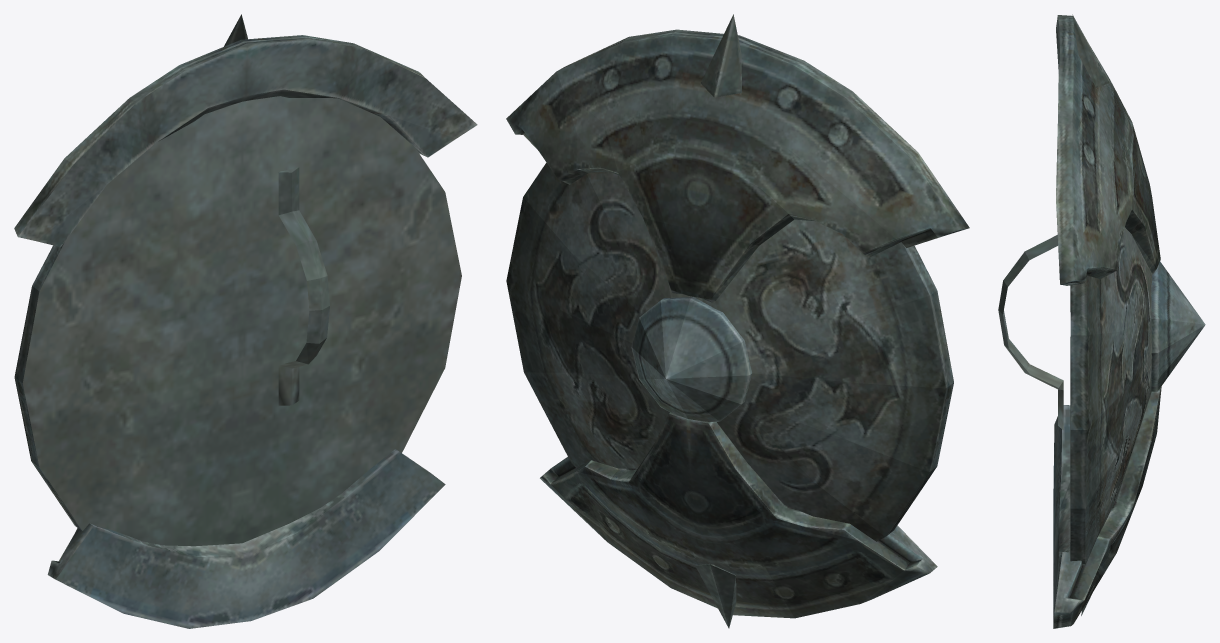
Rendered from bg_lut_lucastle_statueshield01a_sm_cwk.FBX.
3 renders of one model, left to right at view 1: azimuth 30°, elevation 25°; view 2: azimuth 150°, elevation 25°; view 3: azimuth 270°, elevation 25°, orthographic.
Visible parts, largest first — view 1: bg_lut_lucastle_statueshield01a_sm_cwk; view 2: bg_lut_lucastle_statueshield01a_sm_cwk; view 3: bg_lut_lucastle_statueshield01a_sm_cwk.
Part boxes in pixels (x1=…): bg_lut_lucastle_statueshield01a_sm_cwk: x1=14, y1=14, x2=477, y2=628; bg_lut_lucastle_statueshield01a_sm_cwk: x1=506, y1=14, x2=969, y2=628; bg_lut_lucastle_statueshield01a_sm_cwk: x1=998, y1=14, x2=1205, y2=628.
Size of the model in its own units: 71.51 by 90.81 by 28.33.
